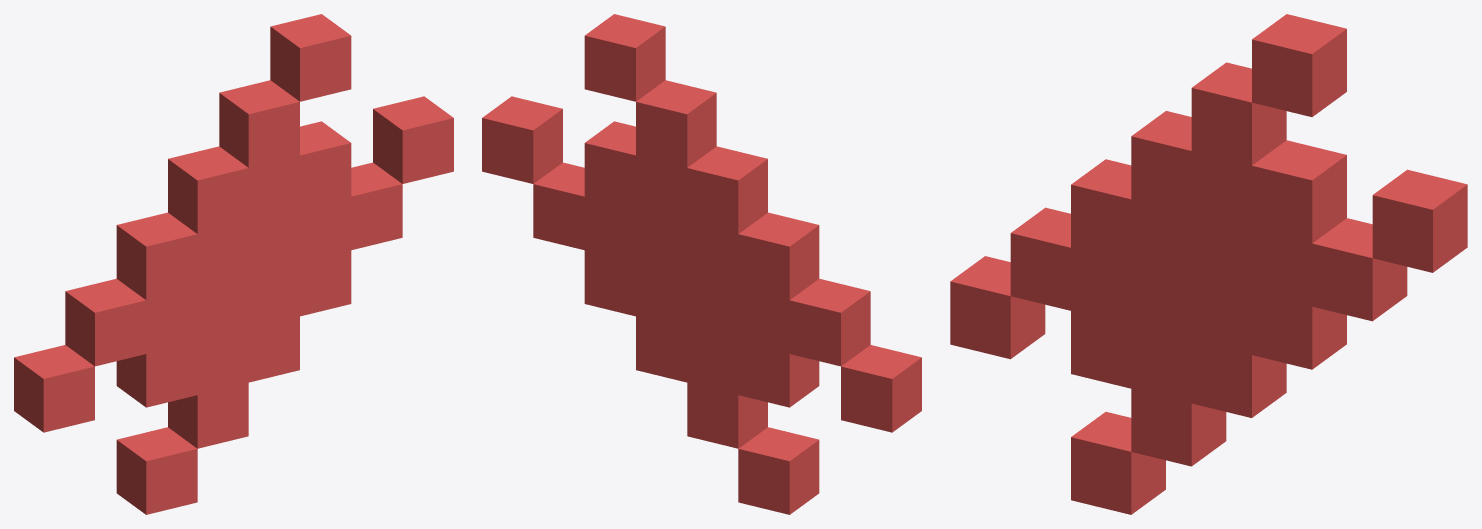
The model's file is Scroll-Pink.vox.obj.
3 views of the same model, side by side, from view 1: azimuth 30°, elevation 25°; view 2: azimuth 150°, elevation 25°; view 3: azimuth 330°, elevation 25° (orthographic). The views are drawn at different scales.
Size of the model in its own units: 0.8 by 0.8 by 0.1.
Materials: 1 (1 with a texture image).
